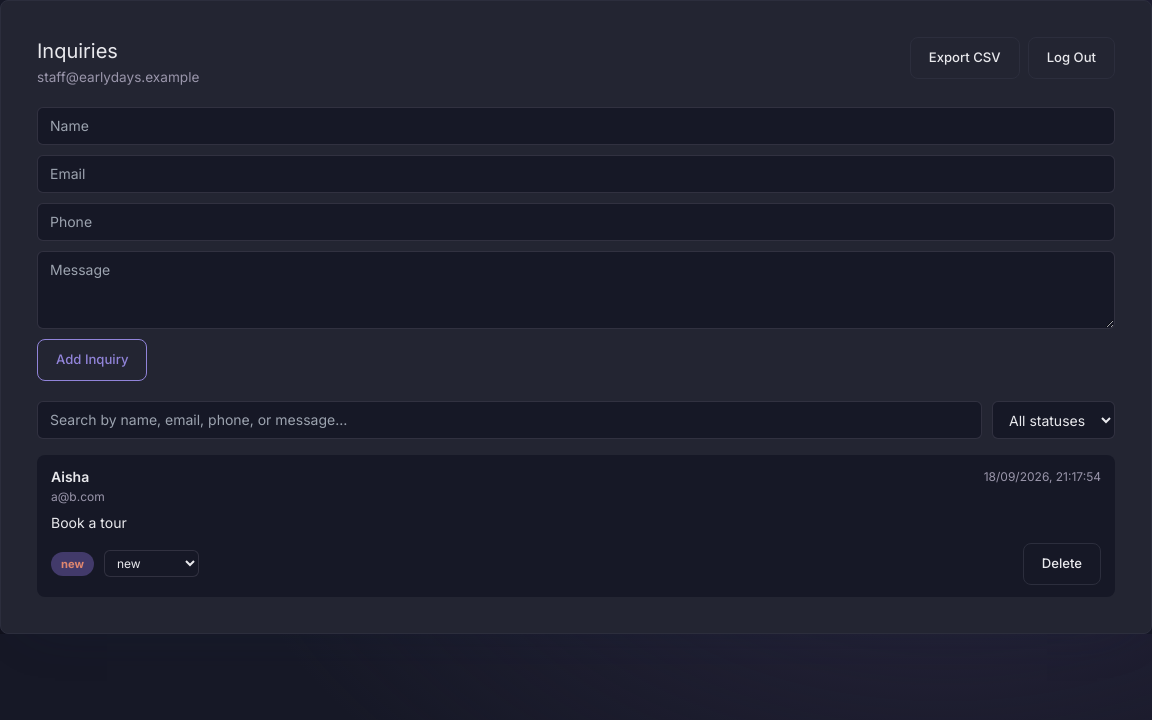
Scenario: AdminInquiriesPanel › shows a Last edited line for the current admin right after changing status
This screenshot has width=1152, height=720.
Expected: the text "Aisha" is shown, [51, 467, 89, 487]
Select "contacted" in the dropdown named "Status for Aisha" at (152,564), box [104, 550, 199, 577]
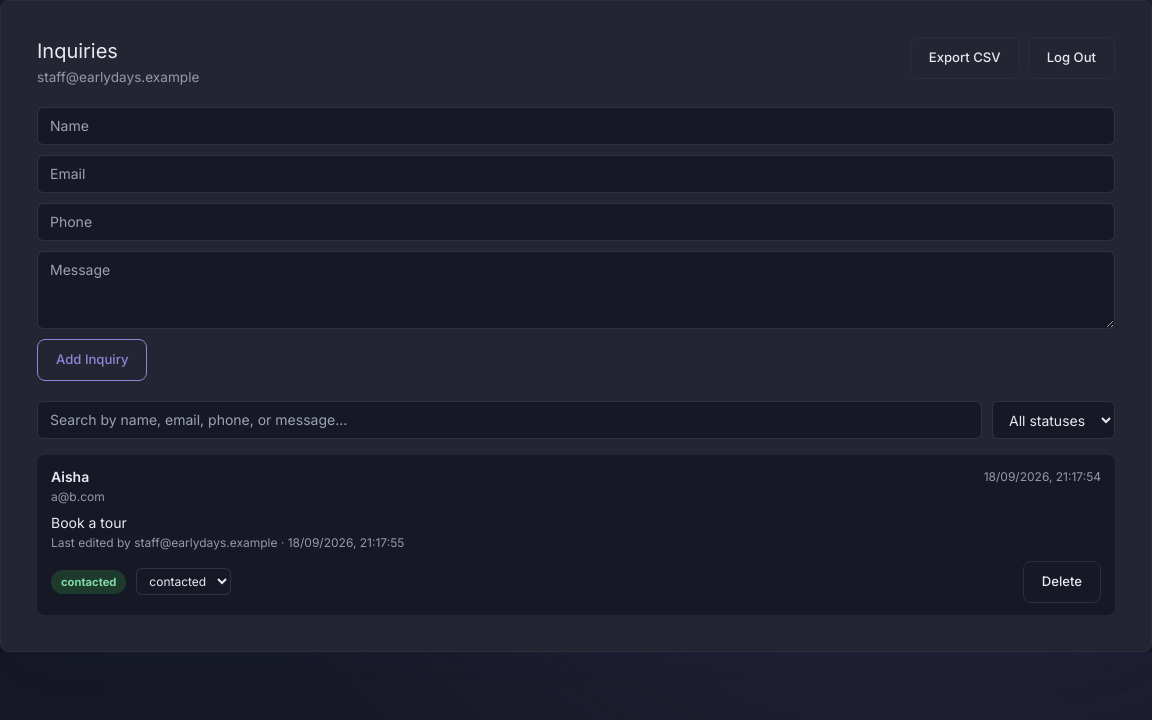
Result: the text "Last edited by staff@earlydays.example" is shown at [51, 535, 404, 550]
